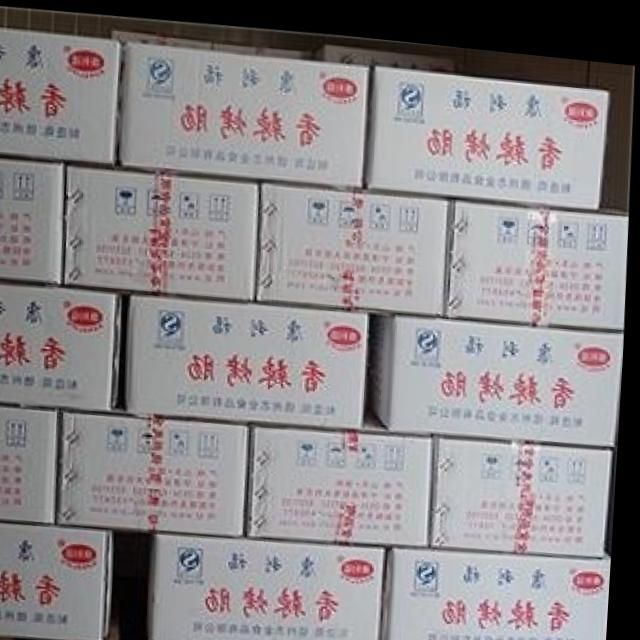box: (121, 39, 371, 181), (366, 57, 610, 196), (370, 307, 624, 435), (128, 292, 370, 420), (154, 529, 389, 640), (260, 176, 451, 306), (69, 164, 259, 294), (389, 539, 617, 640), (65, 410, 254, 529), (452, 191, 628, 315), (253, 420, 437, 538), (439, 428, 617, 543), (0, 27, 119, 161), (0, 284, 123, 409), (0, 521, 118, 640), (0, 160, 64, 281), (0, 406, 62, 521), (312, 37, 461, 63), (111, 28, 169, 42), (256, 41, 307, 53), (211, 36, 256, 48), (169, 33, 211, 45)
